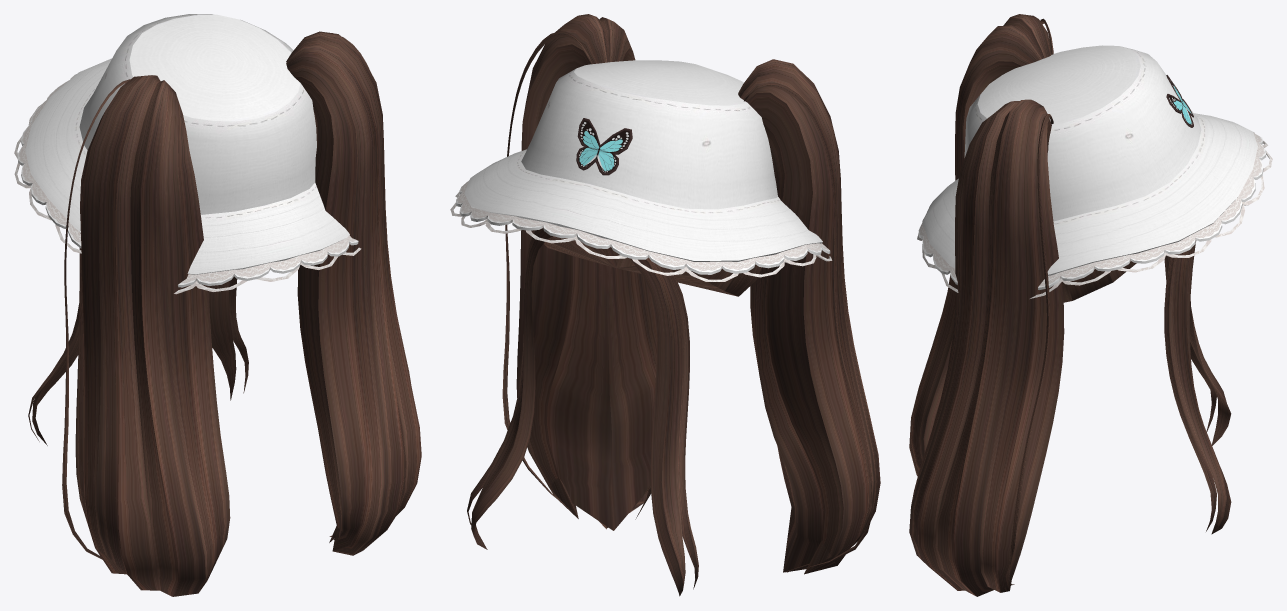
File: acc.glb
3 views of the same model, side by side, from view 1: azimuth 30°, elevation 25°; view 2: azimuth 150°, elevation 25°; view 3: azimuth 270°, elevation 25° (orthographic). The views are drawn at different scales.
Visible parts, largest first — view 1: Handle.001, Handle.002; view 2: Handle.001, Handle.002; view 3: Handle.001, Handle.002.
Boxes of the visible parts, x1,y1,x2,y2 form: Handle.001: (28,31,421,596); Handle.002: (14,14,361,294); Handle.001: (467,14,880,596); Handle.002: (450,60,832,281); Handle.001: (909,14,1231,596); Handle.002: (917,45,1272,298).
Size of the model in its own units: 2.8 by 3.79 by 2.55.
2 materials, 2 textured.
